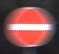No entry: (5, 5, 54, 49)
